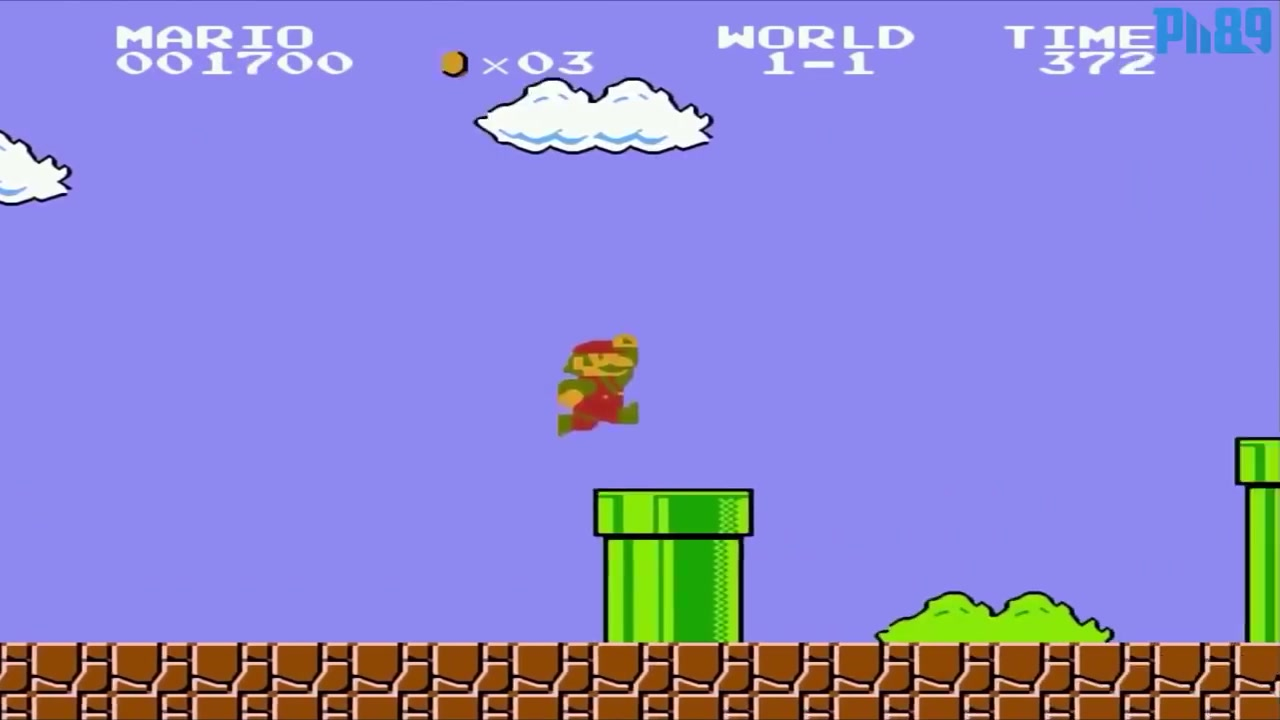mario: (548, 334, 648, 438)
